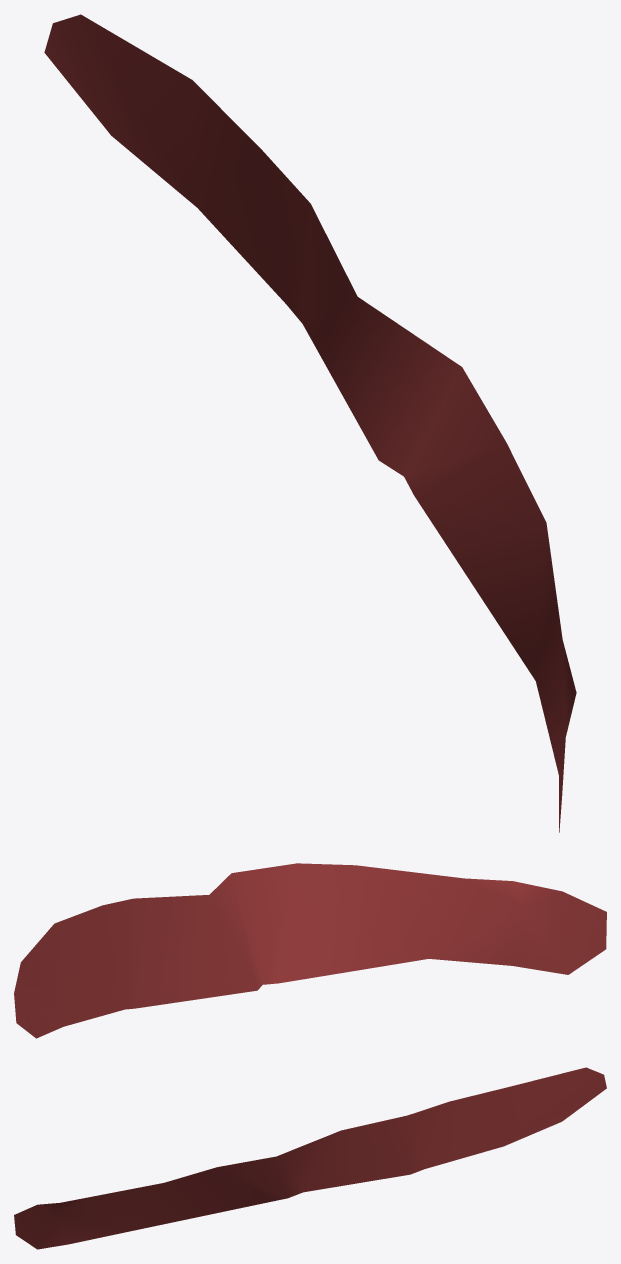
Rendered from bucinator-ol.glb.
3 renders of one model, top to bottom at view 1: azimuth 30°, elevation 25°; view 2: azimuth 150°, elevation 25°; view 3: azimuth 270°, elevation 25°, orthographic. The views are drawn at different scales.
Visible parts, largest first — view 1: Bucinator.ol; view 2: Bucinator.ol; view 3: Bucinator.ol.
Part boxes in pixels (box(x1,y1,x2,y2)): Bucinator.ol: box(44, 14, 576, 832); Bucinator.ol: box(14, 863, 606, 1038); Bucinator.ol: box(14, 1067, 606, 1249).
Size of the model in its own units: 0.00353 by 0.00824 by 0.0222.
